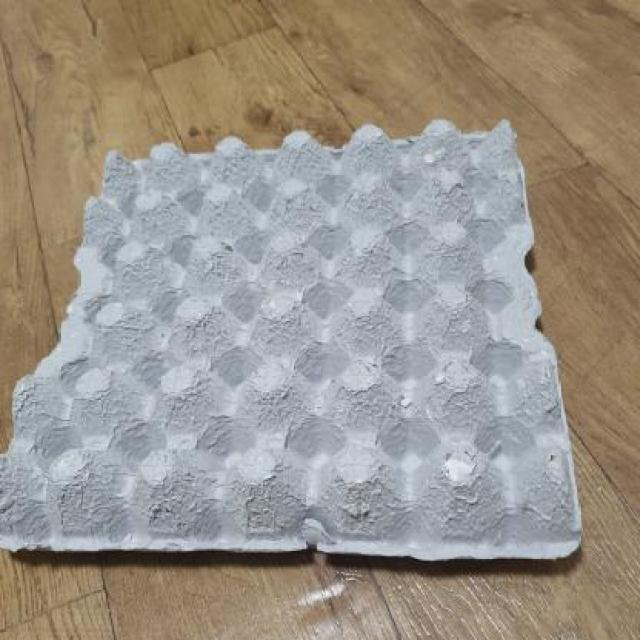box: (0, 89, 600, 621)
